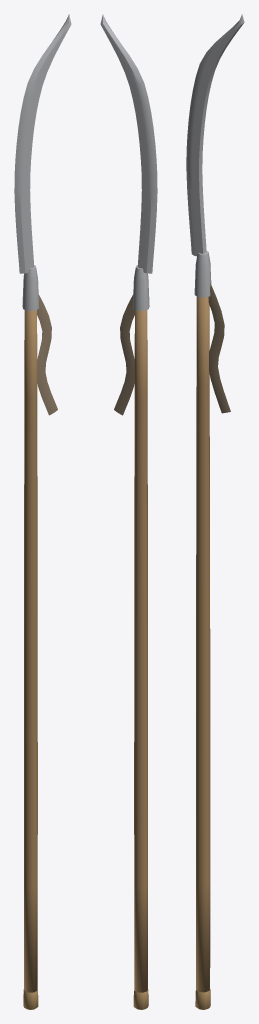
The model's file is flying-blade.glb.
3 views of the same model, side by side, from view 1: azimuth 30°, elevation 25°; view 2: azimuth 150°, elevation 25°; view 3: azimuth 330°, elevation 25° (orthographic).
Visible parts, largest first — view 1: flying-blade; view 2: flying-blade; view 3: flying-blade.
Part boxes in pixels (bbox=[...]): flying-blade: bbox=[14, 14, 71, 1009]; flying-blade: bbox=[100, 14, 157, 1009]; flying-blade: bbox=[186, 14, 244, 1009].
Size of the model in its own units: 0.3402 by 5.78 by 0.0924.
